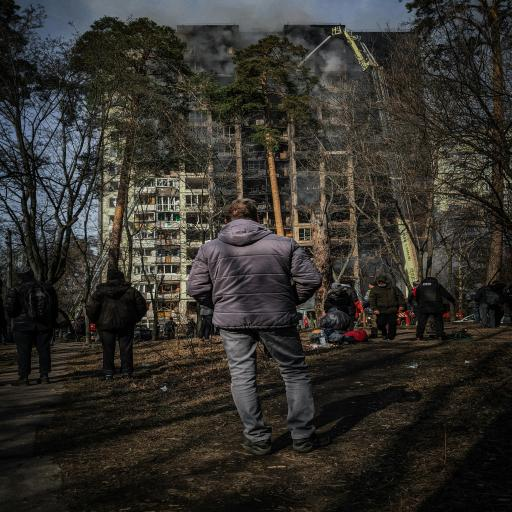smoke: (37, 0, 407, 97)
